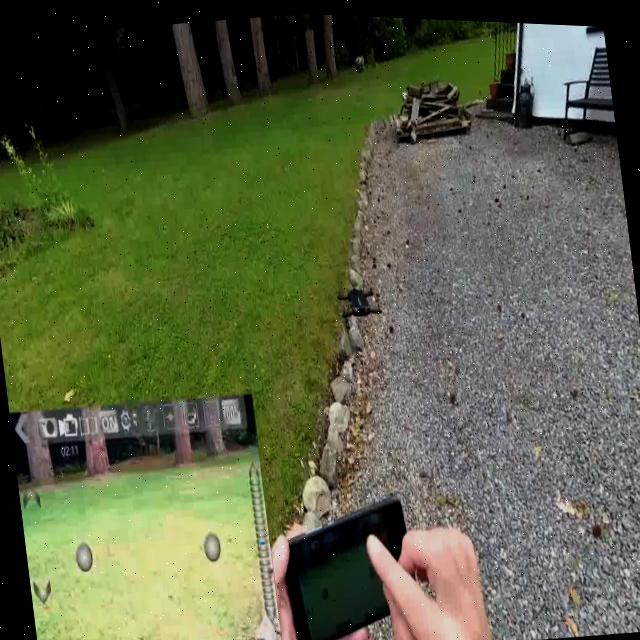drone: (314, 251, 402, 346)
